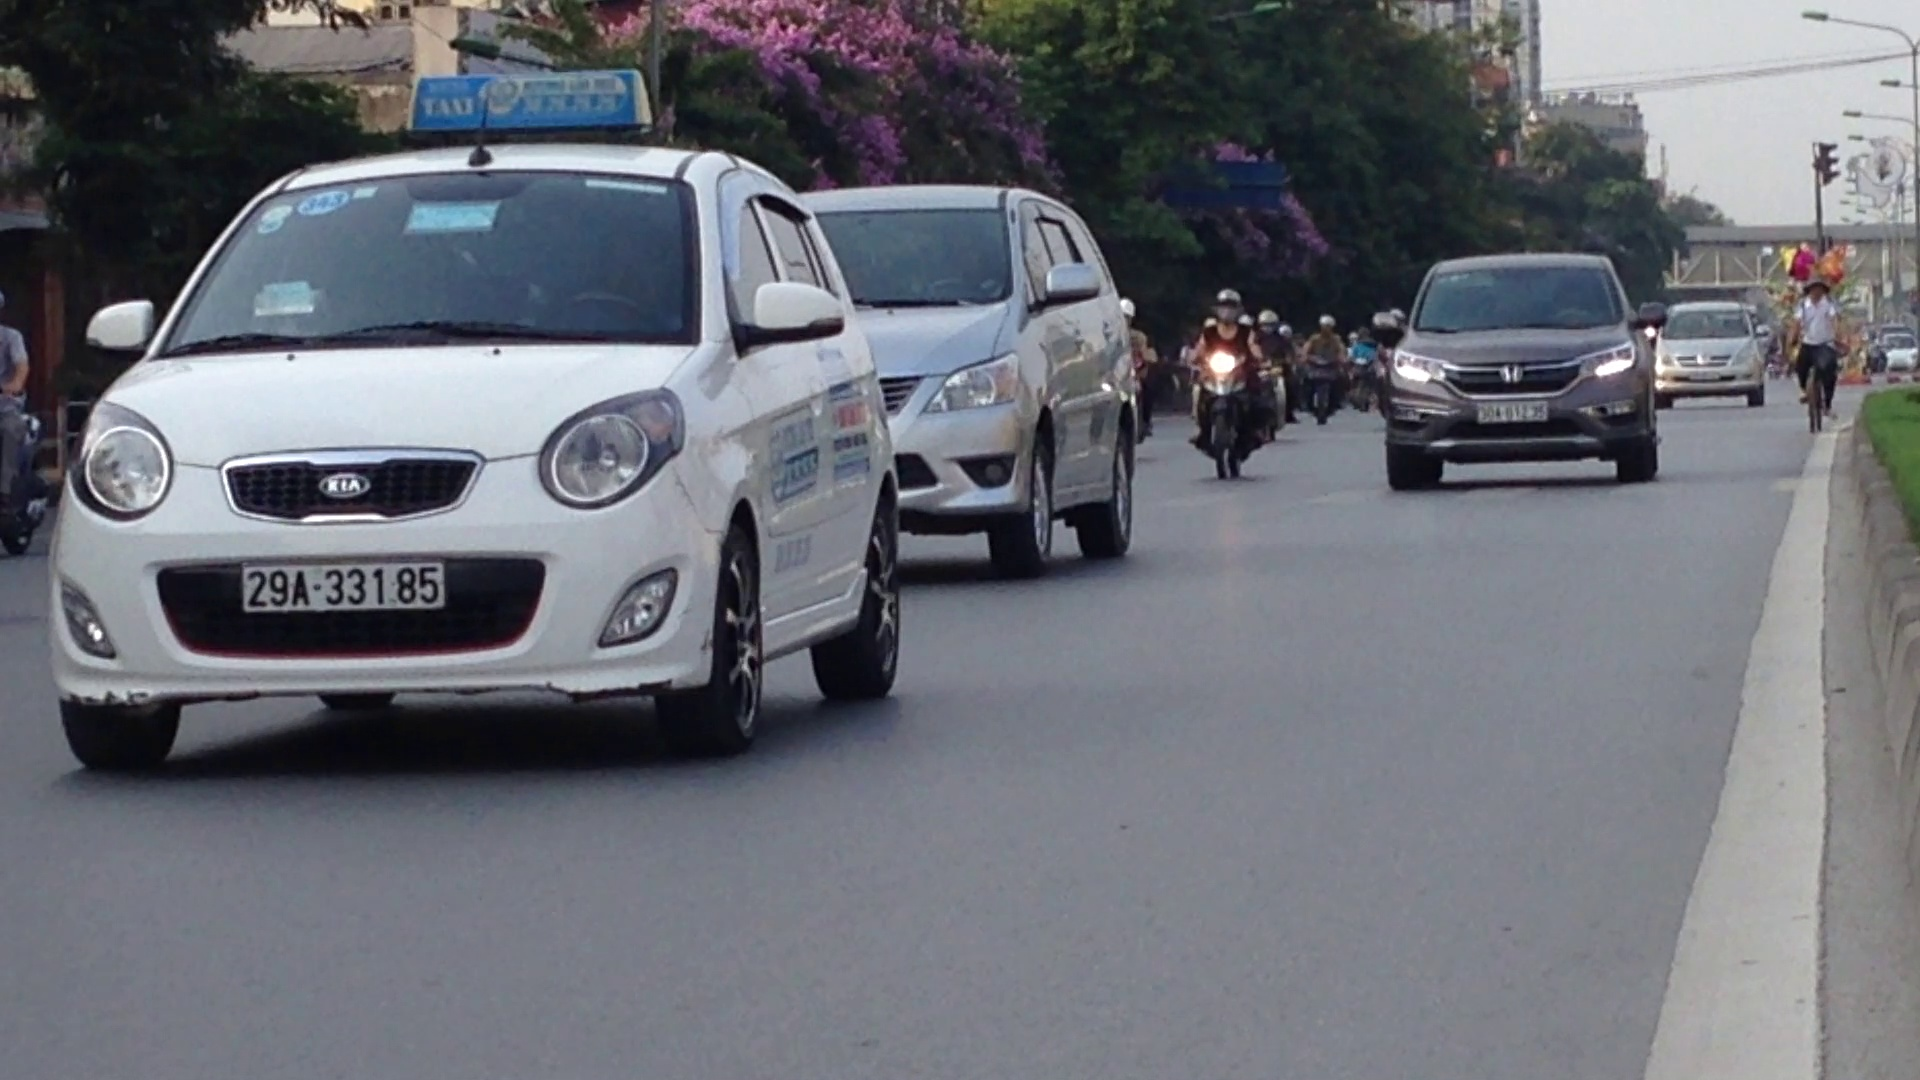person: (239, 559, 451, 612), (1473, 397, 1550, 425)
